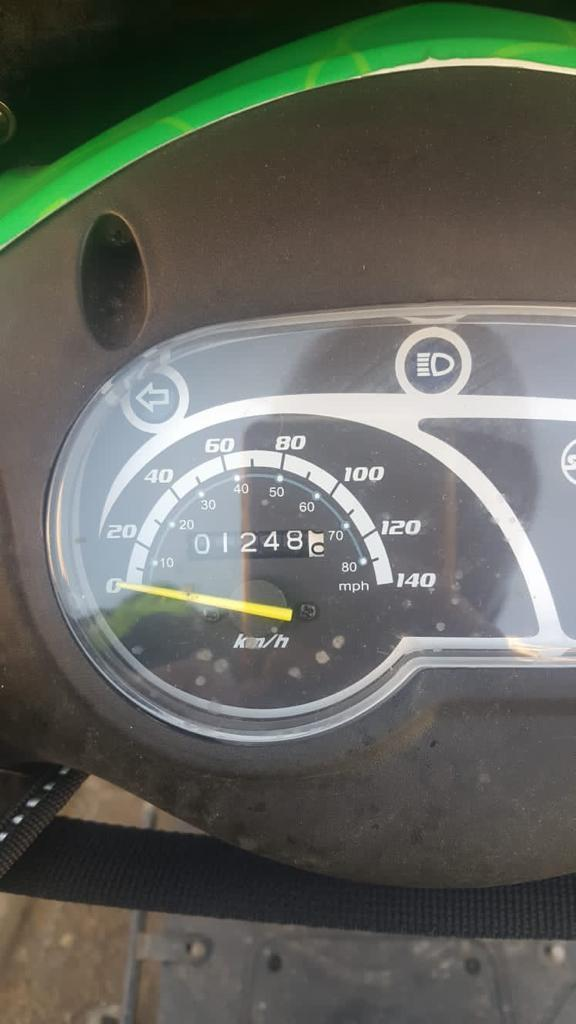0: (192, 531, 211, 556)
1: (219, 529, 233, 557)
2: (237, 530, 258, 553)
4: (263, 527, 281, 552)
8: (285, 528, 304, 552)
9: (309, 539, 326, 561)
odometer: (182, 526, 329, 563)
